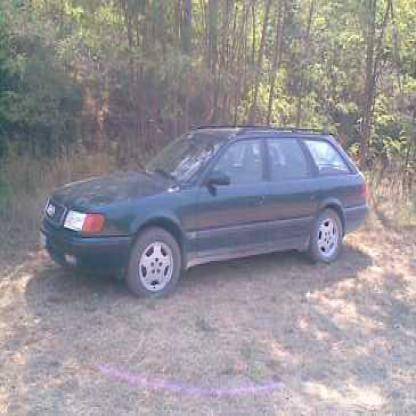Vehicle: (38, 124, 372, 304)
